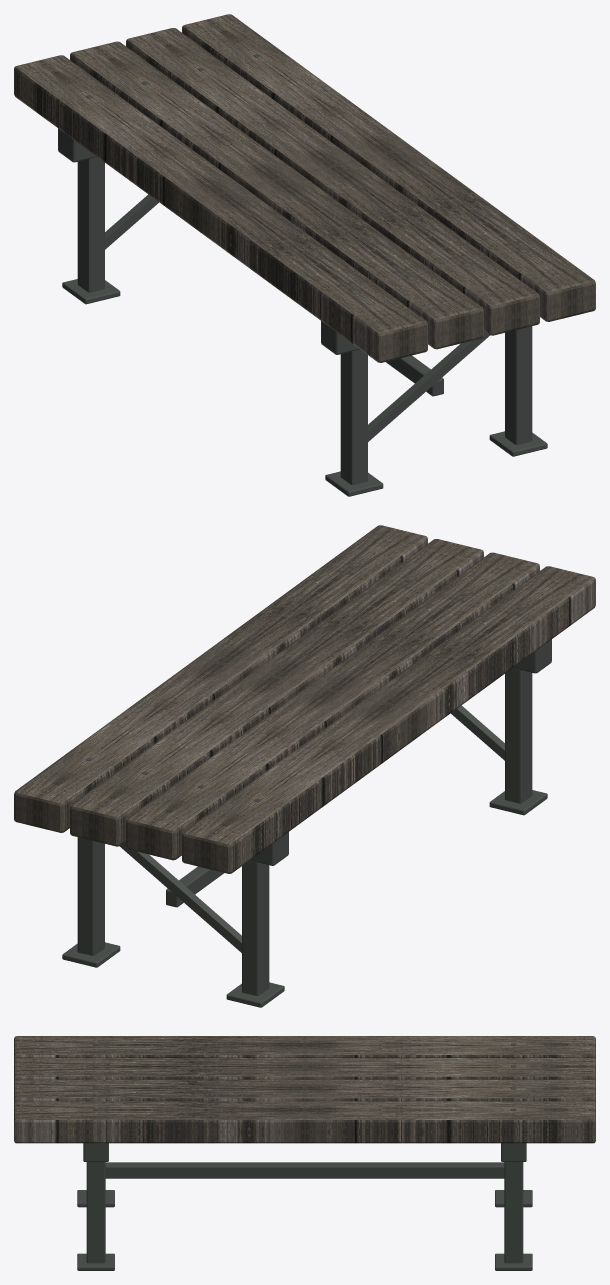
Rendered from street-bench.glb.
The picture shows the model from 3 angles, top to bottom: view 1: azimuth 30°, elevation 25°; view 2: azimuth 150°, elevation 25°; view 3: azimuth 270°, elevation 25°; orthographic projection. The views are drawn at different scales.
Parts seen in each view (by area): view 1: bench_Smoke-aged cedar.045, bench_Bench dark iron; view 2: bench_Smoke-aged cedar.045, bench_Bench dark iron; view 3: bench_Smoke-aged cedar.045, bench_Bench dark iron.
Boxes of the visible parts, x1,y1,x2,y2 form: bench_Smoke-aged cedar.045: (14,14,595,362); bench_Bench dark iron: (58,54,547,496); bench_Smoke-aged cedar.045: (14,525,595,873); bench_Bench dark iron: (62,565,551,1007); bench_Smoke-aged cedar.045: (14,1036,595,1143); bench_Bench dark iron: (77,1043,532,1270).
Size of the model in its own units: 0.585 by 0.502 by 1.7.
2 materials, 1 textured.
